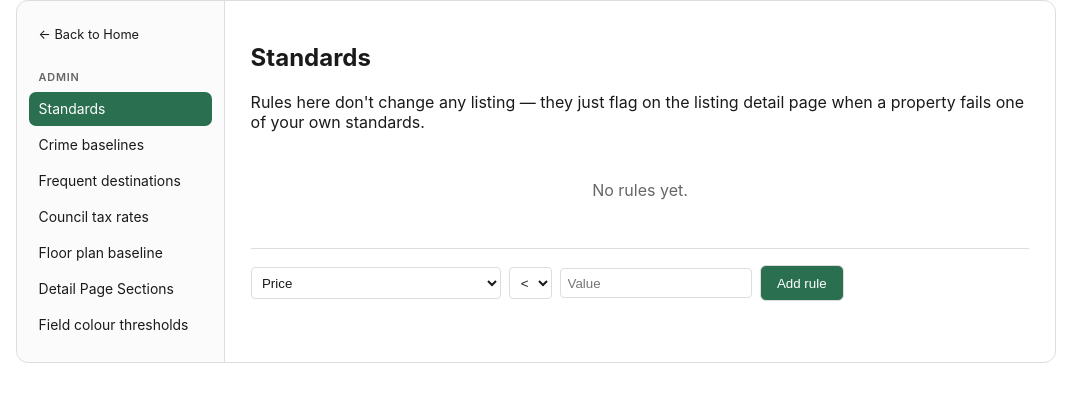
it: AdminPage › switches the visible panel via the sidebar nav without unmounting the destination poller
Step 1. Click the button "Council tax rates" → (120, 217), box 29,200 -> 212,234
Wait 1000 ms
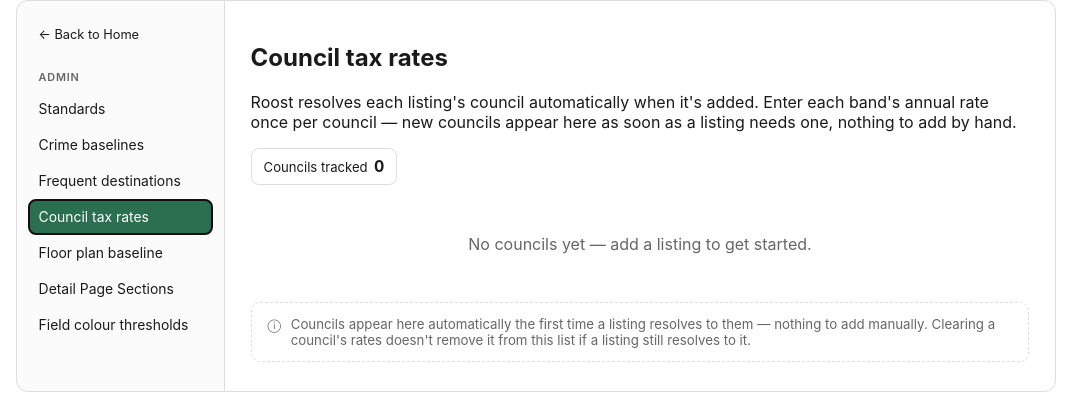
Check: the text "No councils yet — add a listing to get started." is shown, box 468,234 -> 812,254
Step 2. Click the button "Frequent destinations" → (120, 181), box 29,164 -> 212,198
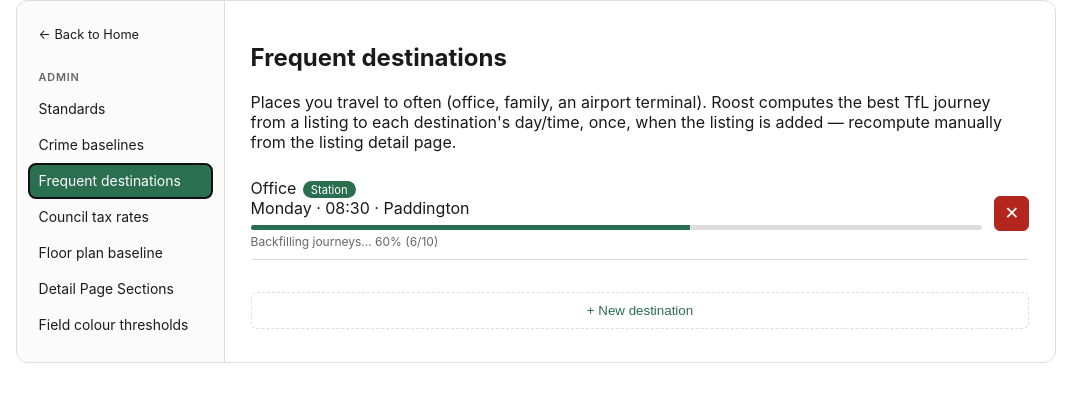
Check: the text "Backfilling journeys… 60% (6/10)" is shown, box 251,234 -> 438,249
